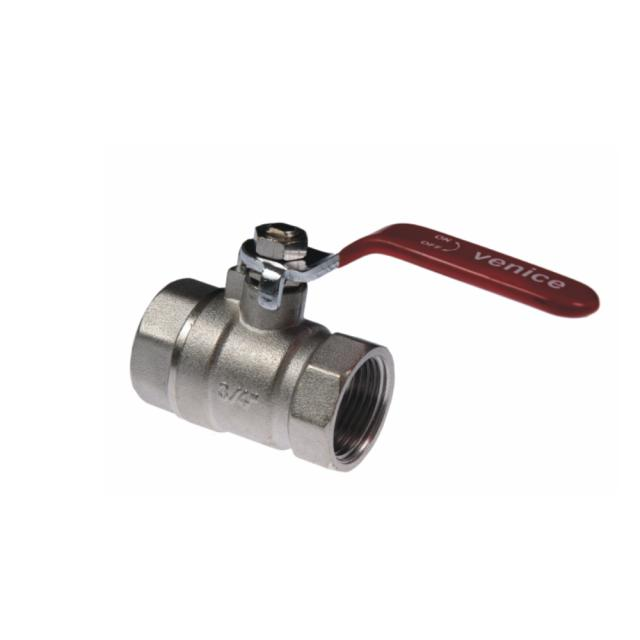Lever Handle Valve Threaded: (127, 188, 609, 390)
